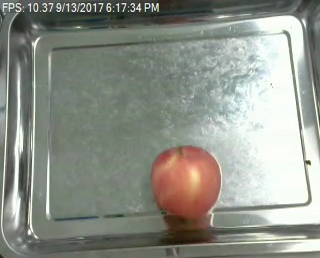Apple: (150, 144, 222, 220)
